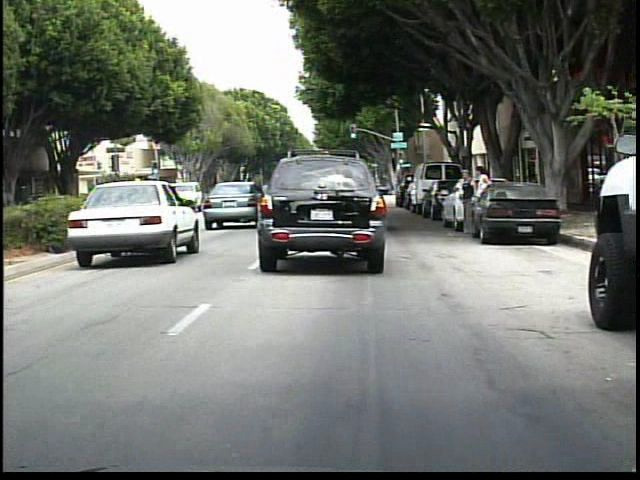person: (458, 168, 481, 240), (472, 163, 494, 235)
